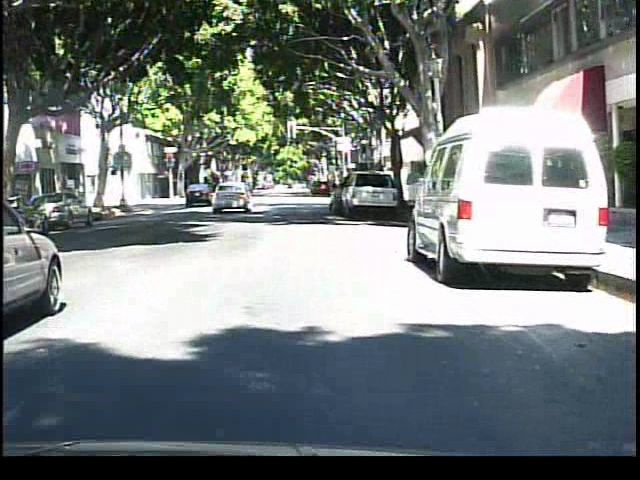person: (224, 171, 246, 206)
